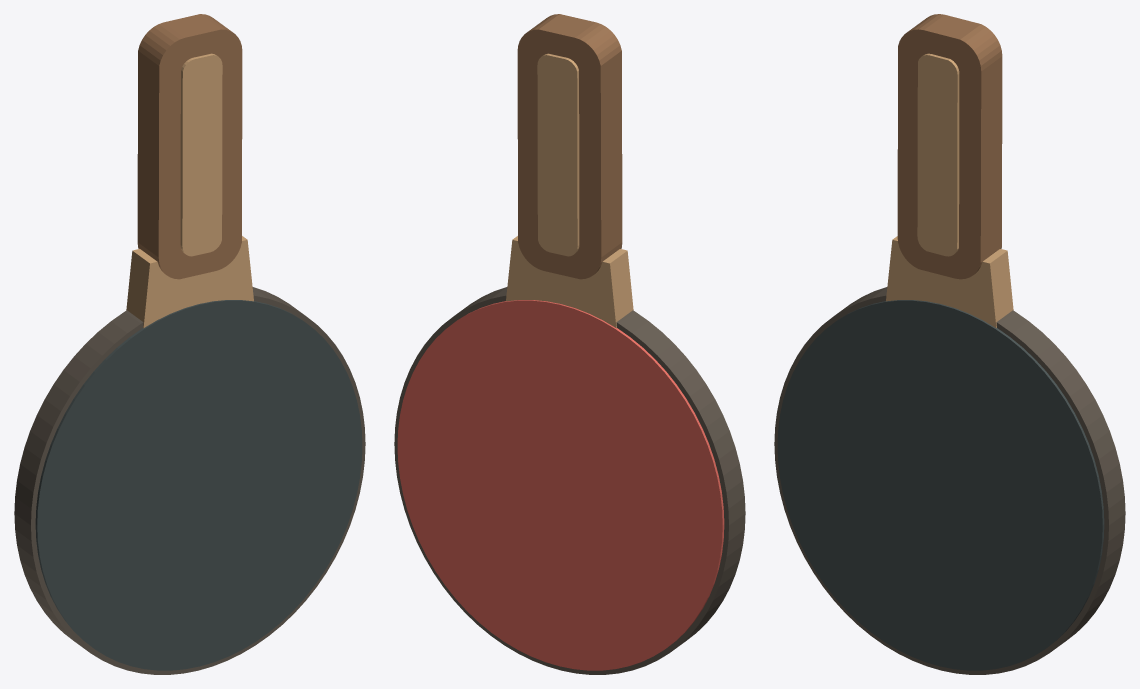
The model's file is paddle-away.glb.
The picture shows the model from 3 angles, left to right: view 1: azimuth 30°, elevation 25°; view 2: azimuth 150°, elevation 25°; view 3: azimuth 330°, elevation 25°; orthographic projection.
Visible parts, largest first — view 1: RubberFront, Handle, HeadEdge, HandleStripeFront, Neck; view 2: RubberBack, Handle, HeadEdge, HandleStripeBack, Neck; view 3: RubberFront, Handle, HeadEdge, HandleStripeFront, Neck.
Boxes of the visible parts, x1=… form: RubberFront: x1=35, y1=300, x2=362, y2=670; Handle: x1=137, y1=14, x2=242, y2=279; HeadEdge: x1=14, y1=287, x2=365, y2=674; HandleStripeFront: x1=180, y1=53, x2=222, y2=256; Neck: x1=126, y1=236, x2=253, y2=328; RubberBack: x1=397, y1=300, x2=724, y2=670; Handle: x1=517, y1=14, x2=622, y2=279; HeadEdge: x1=394, y1=287, x2=745, y2=674; HandleStripeBack: x1=537, y1=53, x2=579, y2=256; Neck: x1=506, y1=236, x2=633, y2=328; RubberFront: x1=777, y1=300, x2=1104, y2=670; Handle: x1=897, y1=14, x2=1002, y2=279; HeadEdge: x1=774, y1=287, x2=1125, y2=674; HandleStripeFront: x1=917, y1=53, x2=959, y2=256; Neck: x1=886, y1=236, x2=1013, y2=328.
Size of the model in its own units: 0.96 by 1.75 by 0.124.
